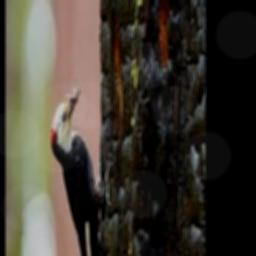Woodpecker: (52, 82, 112, 256)
